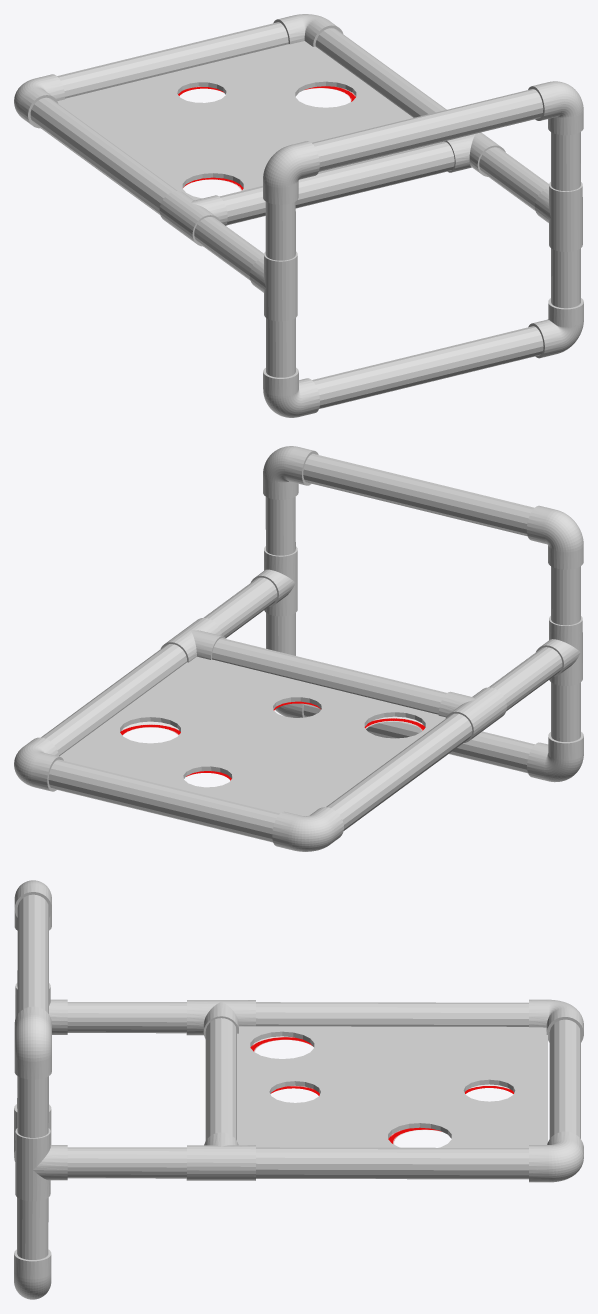
3 views of the same model, one above another, from view 1: azimuth 30°, elevation 25°; view 2: azimuth 150°, elevation 25°; view 3: azimuth 270°, elevation 25° (orthographic). The views are drawn at different scales.
Parts seen in each view (by area): view 1: base_link; view 2: base_link, f9f56d69-75f4-4541-ab38-9738eeac5871; view 3: base_link, f9f56d69-75f4-4541-ab38-9738eeac5871.
Part boxes in pixels (left/top/right/bottom): base_link: left=14, top=14, right=583, bottom=417; base_link: left=14, top=446, right=583, bottom=851; f9f56d69-75f4-4541-ab38-9738eeac5871: left=120, top=701, right=425, bottom=780; base_link: left=14, top=880, right=583, bottom=1299; f9f56d69-75f4-4541-ab38-9738eeac5871: left=250, top=1036, right=513, bottom=1144.
Size of the model in its own units: 0.7356 by 1.1 by 0.5991.
2 materials, 1 textured.
